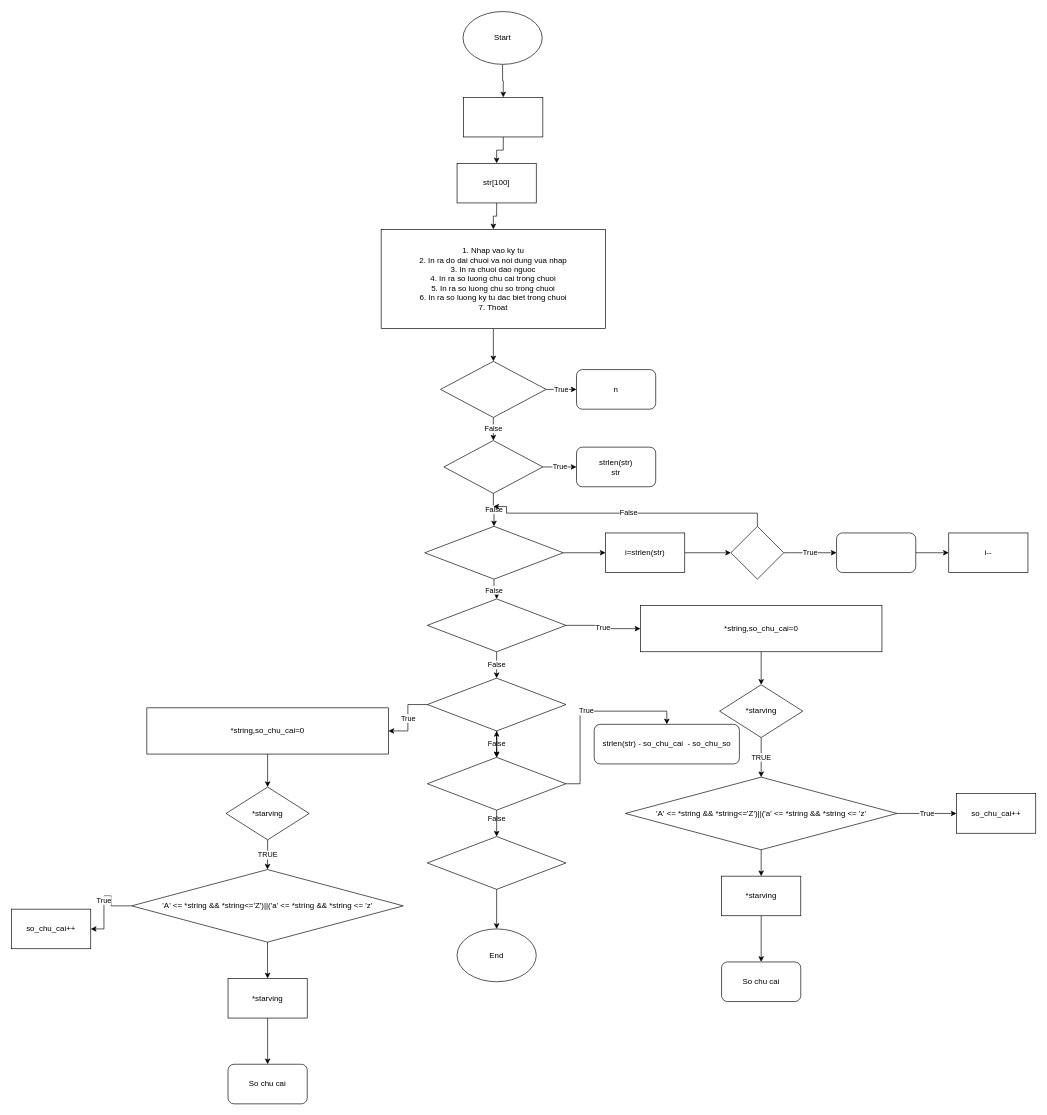
This 1047x1115 diagram has some shape labels left out. Here are the shapes that lost their labels. From the top down, the box of each, then its label:
(463, 97, 543, 137): choice, n
(440, 361, 546, 417): case 1
(443, 440, 543, 493): case 2
(424, 526, 563, 579): case 3
(730, 526, 784, 579): i>=0
(836, 532, 916, 573): str[i]
(427, 598, 566, 652): case 4
(427, 677, 566, 731): case 5
(427, 757, 566, 810): case 6
(427, 836, 566, 889): case 7
